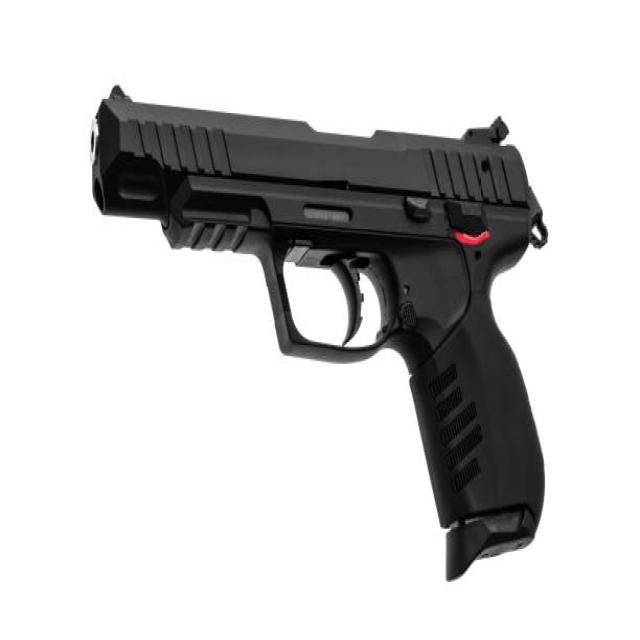pistol: (84, 79, 550, 592)
